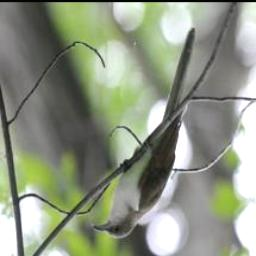Cuckoo: (93, 24, 200, 242)
